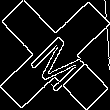M_NE: (21, 21, 89, 89)
